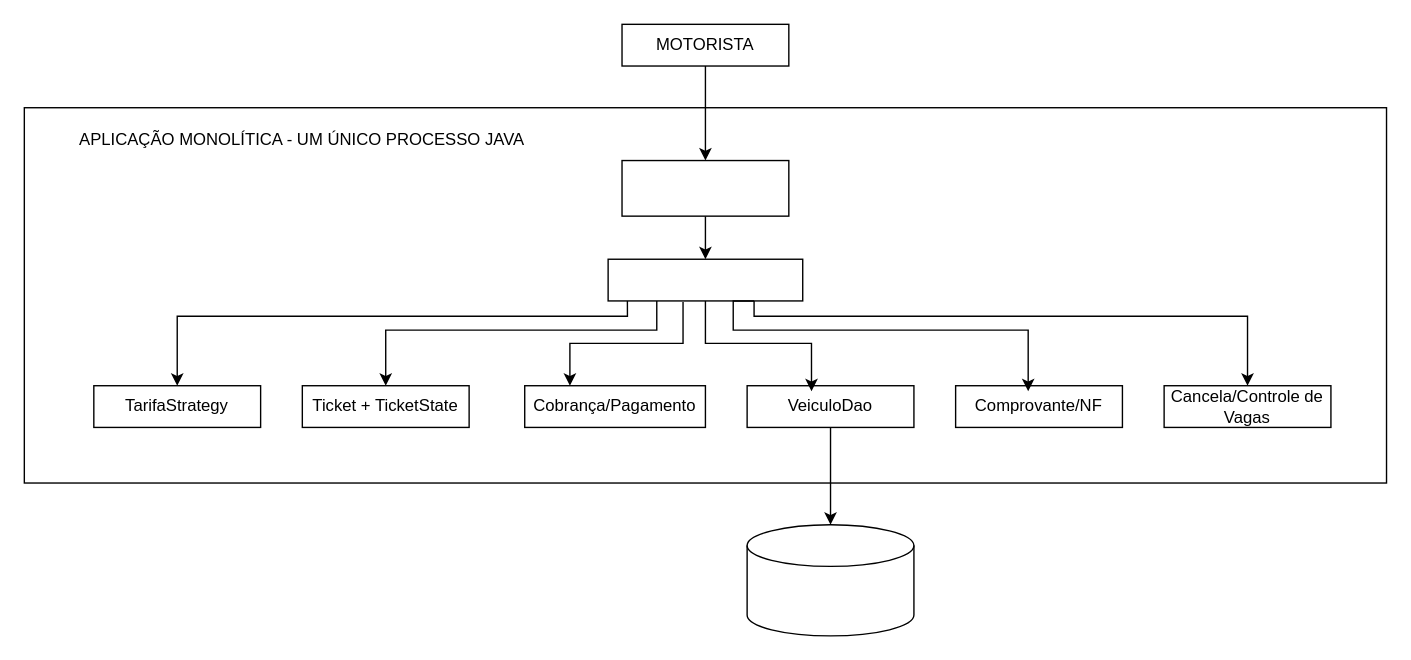
This 1411x660 diagram has some shape labels left out. Here are the shapes that lost their labels. From the top down, the box of each, then its label:
(621, 159, 789, 216): TOTEM - APRESENTAÇÃO
(607, 258, 803, 301): EstacionamentoFacade
(746, 523, 914, 636): Banco de Dados
